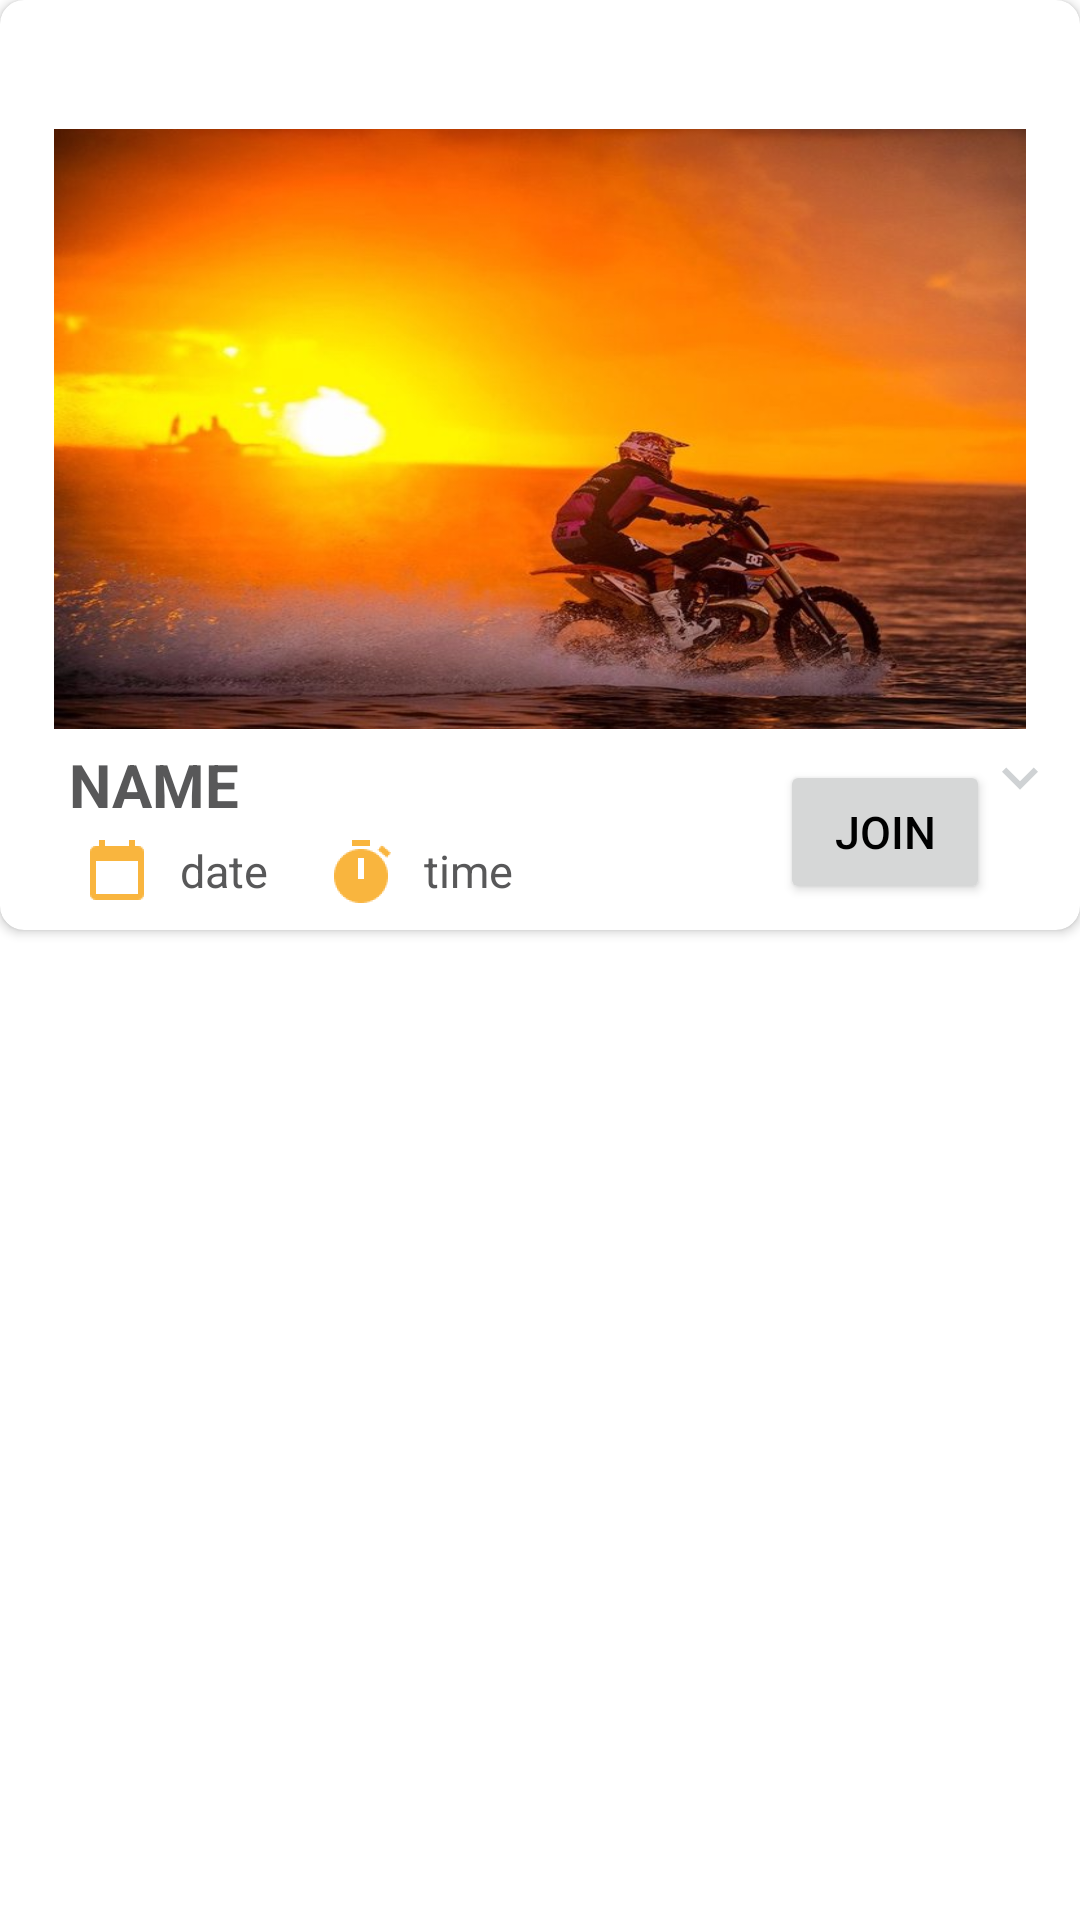

Named icons in this screenshot (1080×1920) and their centers, [x,y]:
keyboard arrow down: [1020,778]
